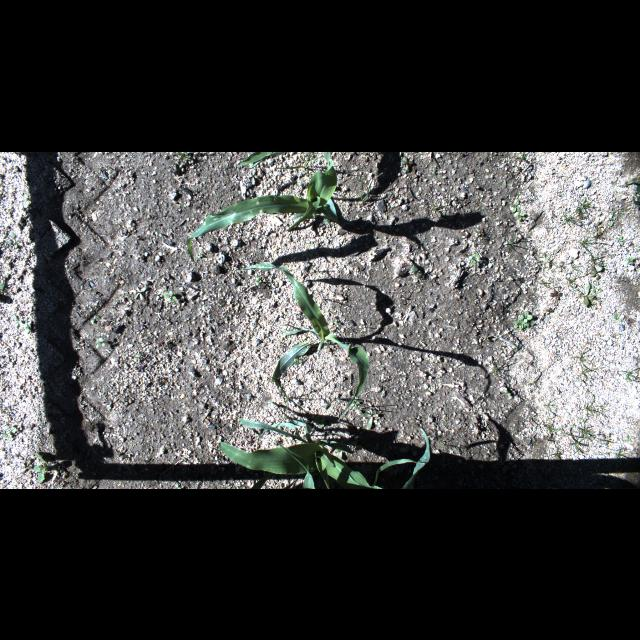crop: (236, 260, 368, 422), (219, 402, 415, 488), (185, 152, 338, 256), (402, 428, 431, 488), (238, 152, 284, 166)
weed: (355, 172, 383, 202), (562, 428, 594, 454), (272, 152, 318, 170), (582, 392, 610, 418), (569, 345, 595, 371), (487, 358, 515, 380), (164, 152, 196, 170), (615, 449, 639, 473), (578, 233, 602, 255), (564, 267, 586, 291), (540, 252, 566, 272), (623, 176, 639, 208), (512, 310, 534, 330), (544, 416, 564, 432), (576, 419, 596, 435), (580, 284, 594, 306), (574, 200, 590, 218), (362, 411, 378, 429), (577, 366, 601, 378), (33, 464, 47, 484), (399, 156, 415, 172), (590, 250, 608, 264), (162, 288, 178, 302), (248, 169, 262, 183), (10, 234, 22, 250), (411, 264, 424, 278), (2, 427, 18, 438), (608, 210, 618, 227), (590, 266, 602, 280), (469, 251, 481, 265), (540, 398, 554, 410), (627, 368, 639, 382), (550, 290, 566, 300), (134, 287, 146, 299), (506, 238, 524, 246), (13, 314, 23, 328), (20, 458, 30, 472), (93, 337, 105, 348), (511, 200, 522, 212), (23, 193, 32, 207), (551, 448, 561, 460), (23, 323, 33, 333), (612, 312, 622, 322), (253, 276, 263, 286), (593, 281, 603, 291), (34, 454, 46, 462), (616, 233, 624, 245), (514, 152, 526, 160), (133, 353, 143, 362), (626, 255, 634, 265), (566, 214, 576, 222), (624, 434, 632, 442), (502, 178, 508, 188), (198, 250, 205, 258), (505, 389, 511, 397), (92, 314, 100, 320), (0, 282, 6, 290), (518, 212, 524, 220), (294, 358, 302, 364), (624, 376, 630, 382), (431, 166, 435, 174), (175, 484, 182, 488)
